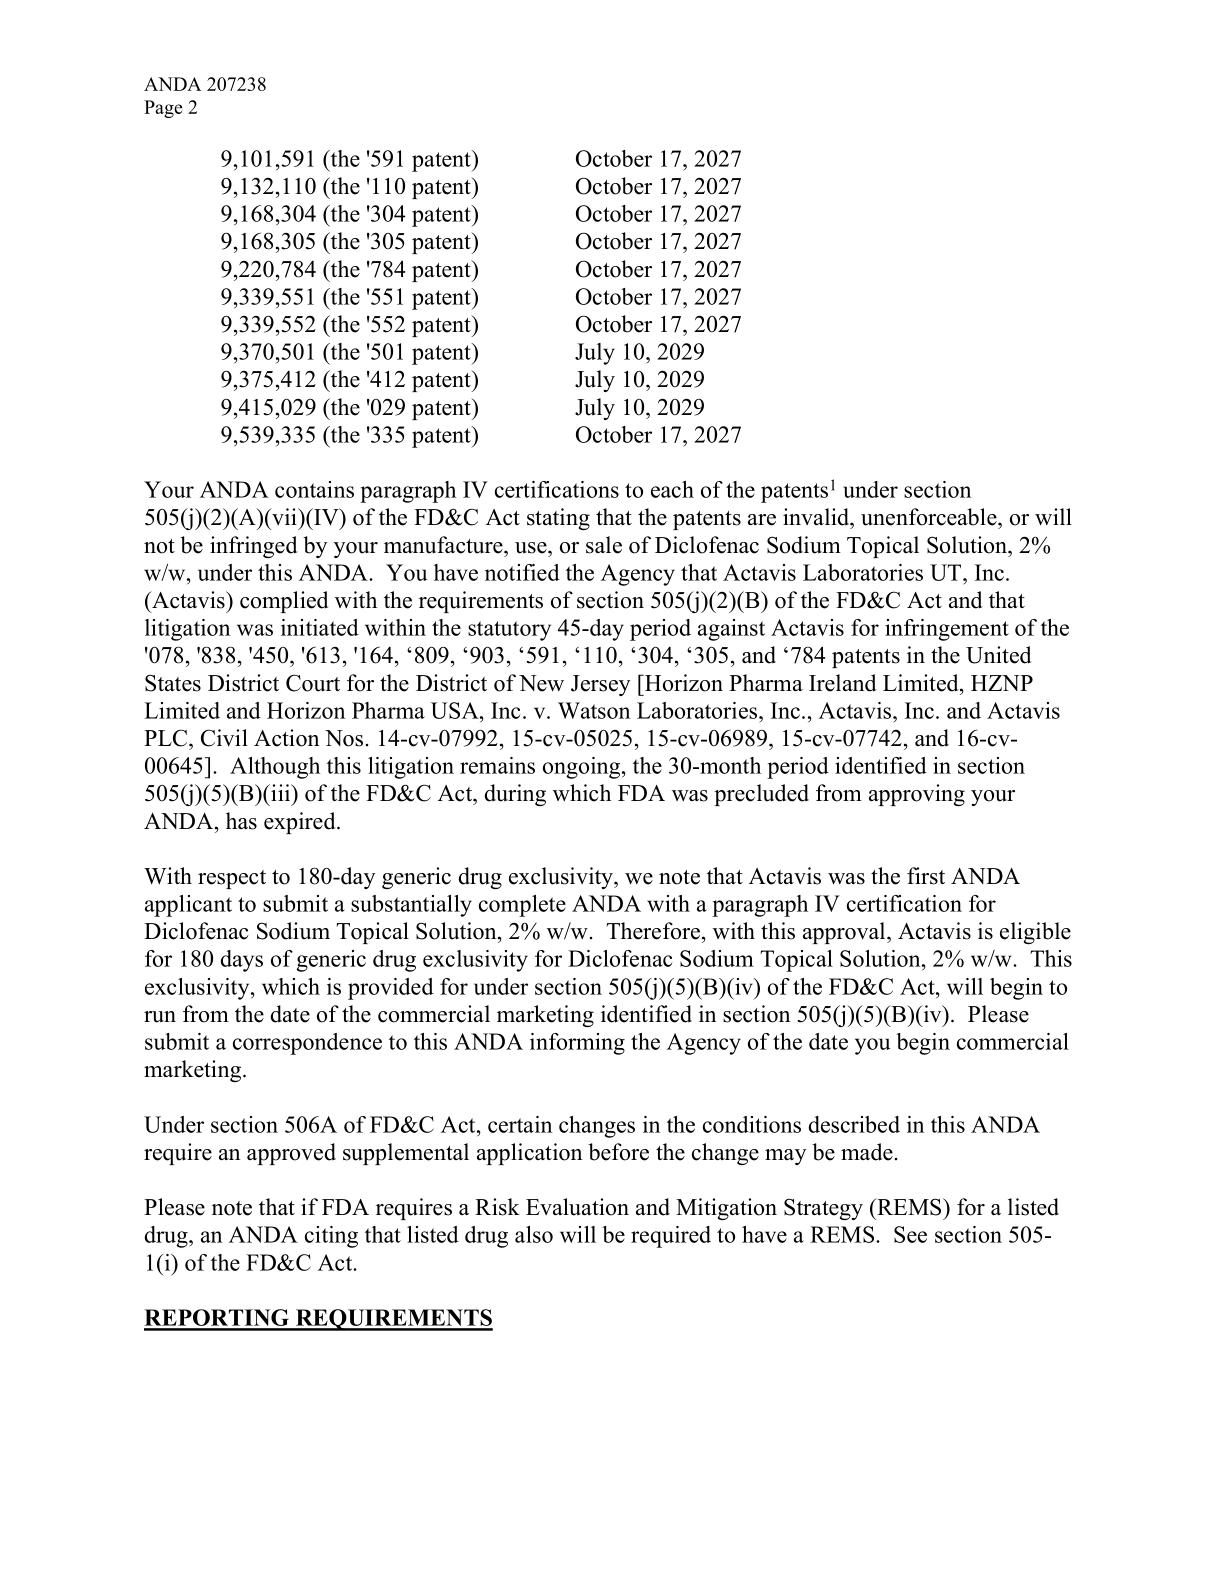nolines: (216, 145, 744, 449)
